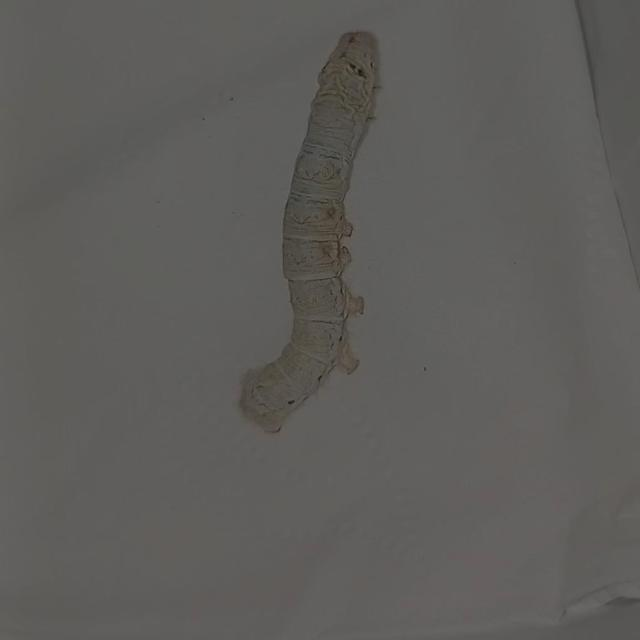Healthy: (215, 14, 456, 454)
